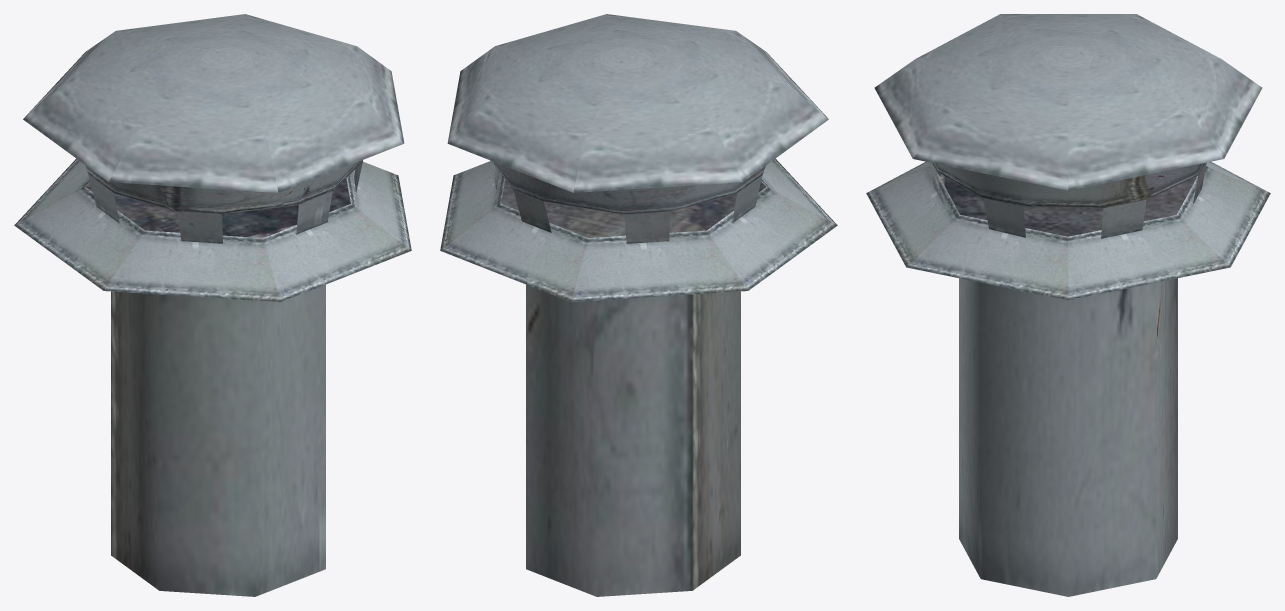
The model's file is Airvent_1.fbx.
The picture shows the model from 3 angles, left to right: view 1: azimuth 30°, elevation 25°; view 2: azimuth 150°, elevation 25°; view 3: azimuth 270°, elevation 25°; orthographic projection.
Parts seen in each view (by area): view 1: Airvent_1; view 2: Airvent_1; view 3: Airvent_1.
Part boxes in pixels (x1=…): Airvent_1: x1=14, y1=14, x2=411, y2=596; Airvent_1: x1=440, y1=14, x2=837, y2=596; Airvent_1: x1=866, y1=14, x2=1270, y2=596.
Bounding box in the file's own units: 61.38 × 85.71 × 62.96.
